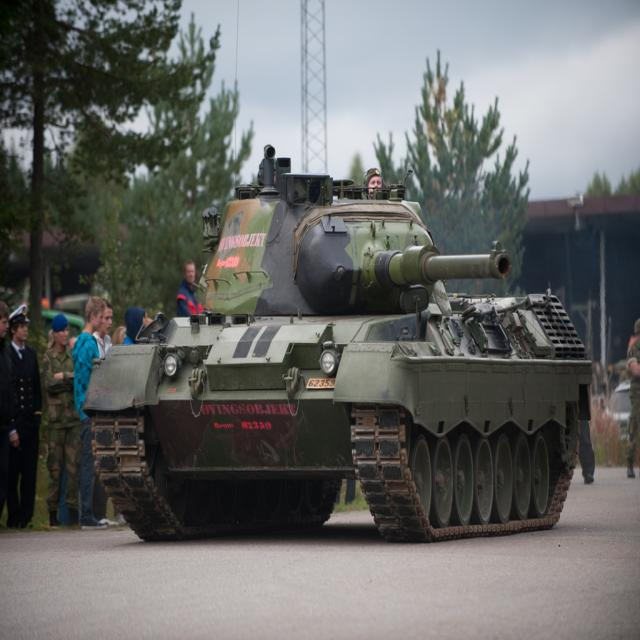tank: (81, 0, 592, 536)
